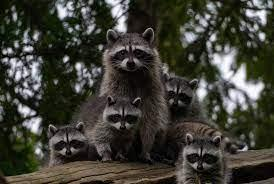raccoon: (83, 21, 173, 176), (159, 66, 242, 154), (77, 91, 145, 176), (168, 128, 235, 184), (40, 116, 93, 182)
